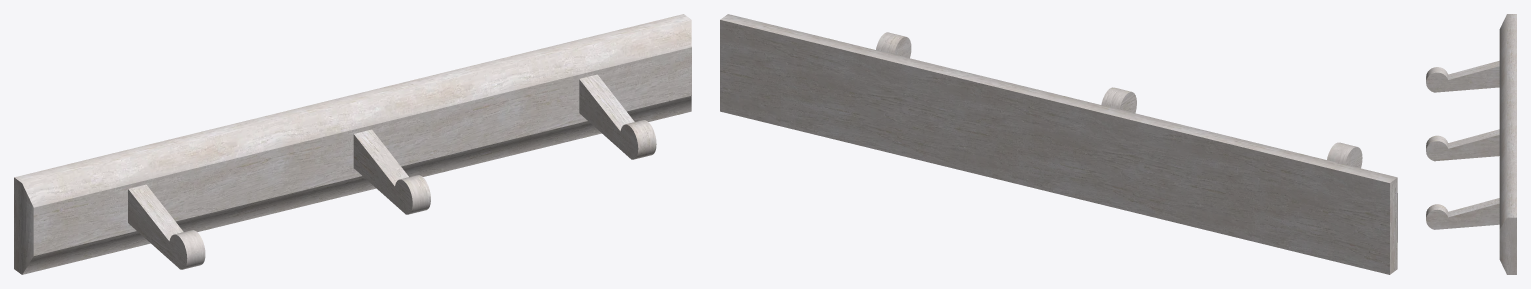
The model's file is coat_rack_cc0_3_plaggy.glb.
The picture shows the model from 3 angles, left to right: view 1: azimuth 30°, elevation 25°; view 2: azimuth 150°, elevation 25°; view 3: azimuth 270°, elevation 25°; orthographic projection. The views are drawn at different scales.
Visible parts, largest first — view 1: CoatRack3_CoatRack3_0; view 2: CoatRack3_CoatRack3_0; view 3: CoatRack3_CoatRack3_0.
Boxes of the visible parts, x1,y1,x2,y2 form: CoatRack3_CoatRack3_0: (14, 14, 691, 274); CoatRack3_CoatRack3_0: (720, 14, 1397, 274); CoatRack3_CoatRack3_0: (1426, 14, 1516, 274).
Size of the model in its own units: 0.42 by 0.055 by 0.0792.
Materials: 1 (1 with a texture image).
